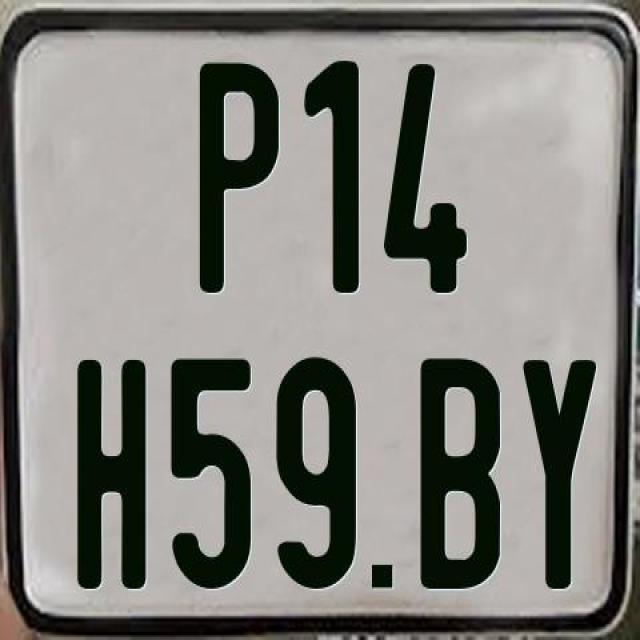1: (302, 58, 366, 298)
4: (380, 62, 468, 298)
5: (169, 354, 256, 590)
9: (272, 354, 358, 586)
B: (416, 353, 504, 588)
H: (74, 358, 142, 596)
P: (198, 61, 280, 293)
Y: (521, 358, 599, 592)
